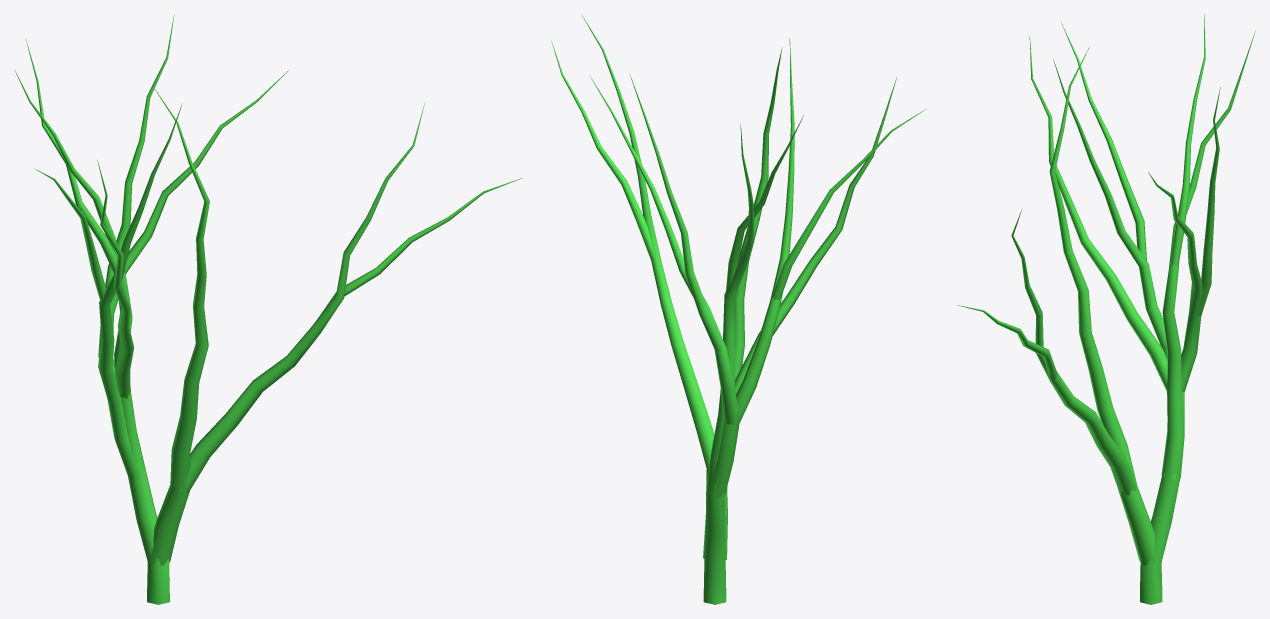
File: Tree_15.fbx
3 views of the same model, side by side, from view 1: azimuth 30°, elevation 25°; view 2: azimuth 150°, elevation 25°; view 3: azimuth 270°, elevation 25° (orthographic).
Visible parts, largest first — view 1: Tree_15; view 2: Tree_15; view 3: Tree_15.
Part boxes in pixels (x1,y1,x2,y2): Tree_15: [14, 14, 522, 604]; Tree_15: [551, 14, 926, 604]; Tree_15: [956, 14, 1255, 604].
Bounding box in the file's own units: 146 × 175 × 88.55.
